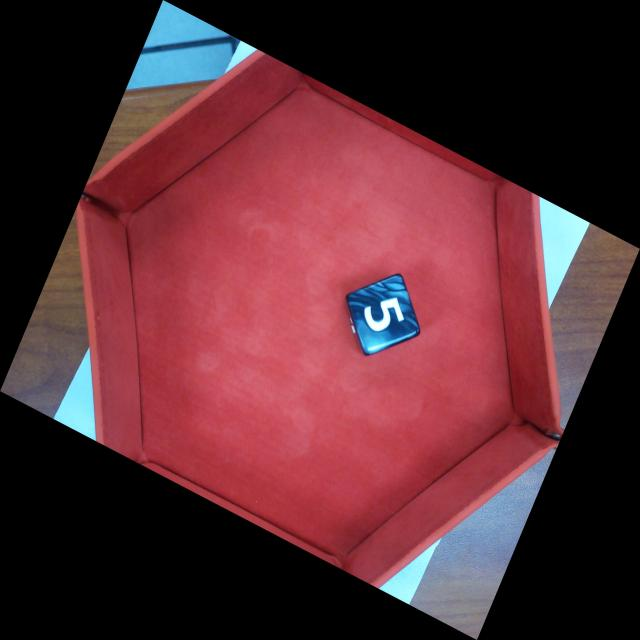dice: (350, 276, 423, 355)
